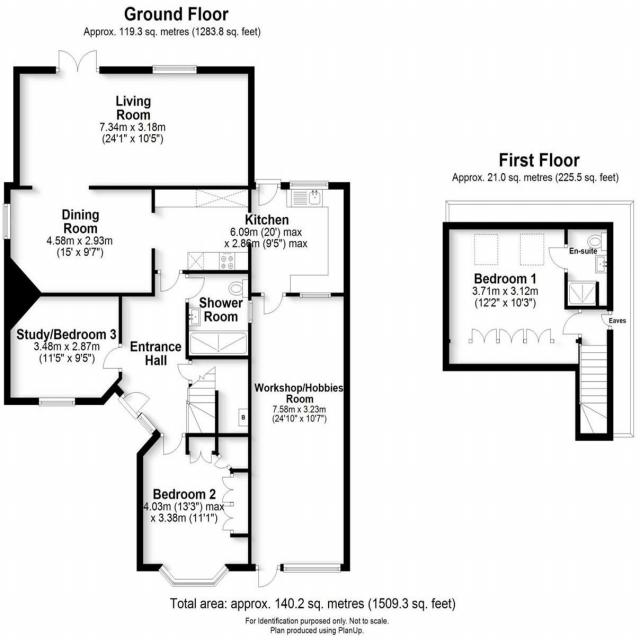DOOR: (120, 391, 152, 416), (257, 182, 279, 207), (561, 311, 583, 336), (159, 269, 181, 293), (257, 565, 279, 589), (102, 345, 123, 370), (547, 246, 568, 271), (185, 276, 206, 300), (162, 432, 183, 456), (263, 292, 284, 316), (176, 363, 193, 382)
DOUBLE DOOR: (57, 48, 99, 74)
ROOM: (2, 47, 352, 331), (247, 292, 351, 589), (442, 221, 582, 372), (136, 429, 252, 587), (4, 254, 123, 407)
WINDOW: (282, 563, 341, 573), (136, 411, 157, 436), (151, 64, 198, 75), (211, 563, 230, 588), (171, 577, 217, 587), (157, 564, 176, 588), (38, 396, 76, 407), (1, 203, 12, 241), (289, 180, 329, 190), (299, 292, 332, 299), (247, 299, 254, 325)
